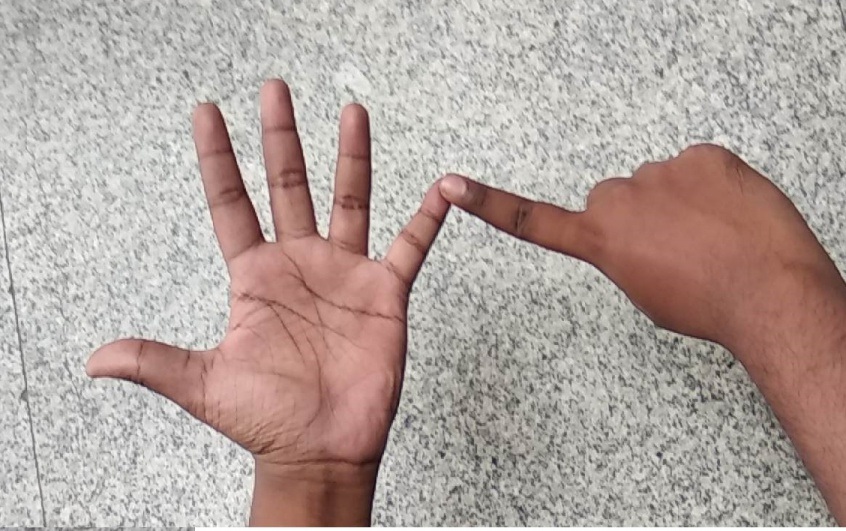i: (82, 74, 680, 460)
